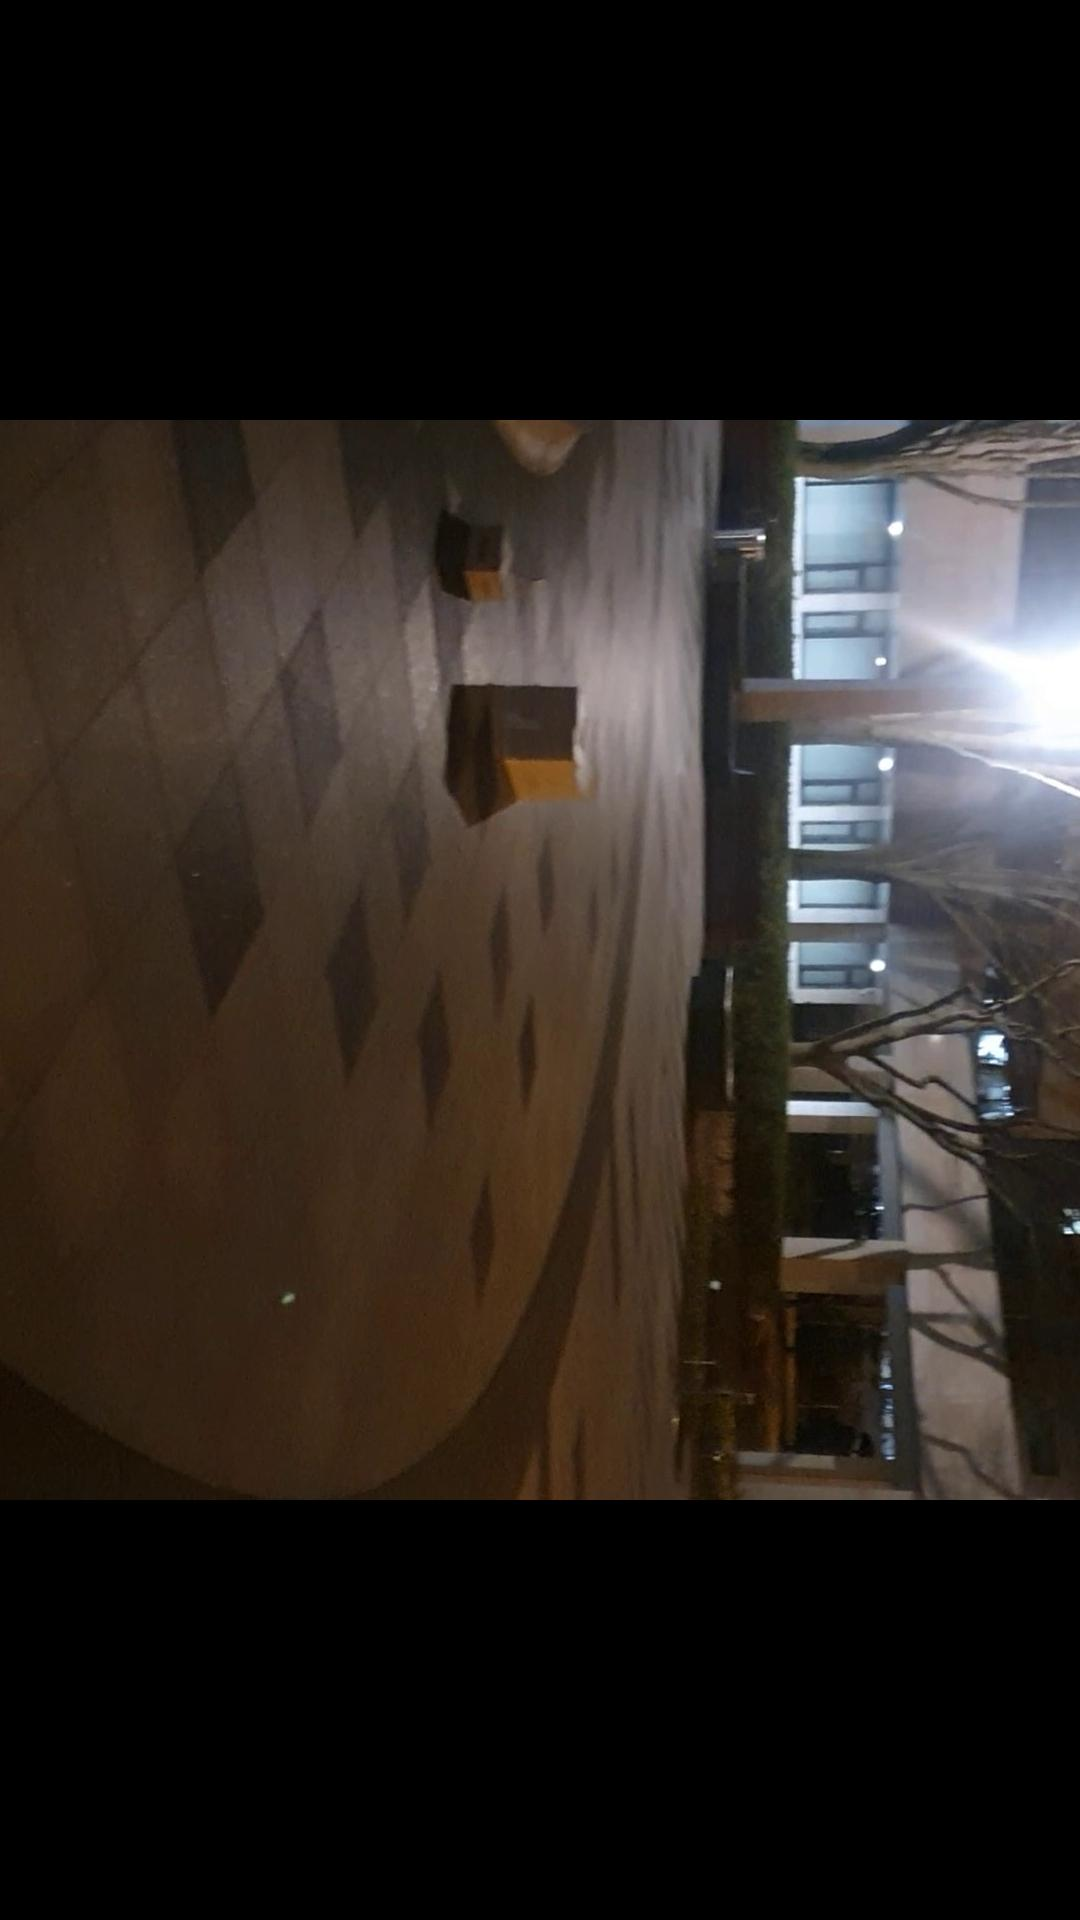Box: (465, 673, 595, 810), (452, 518, 517, 611)
